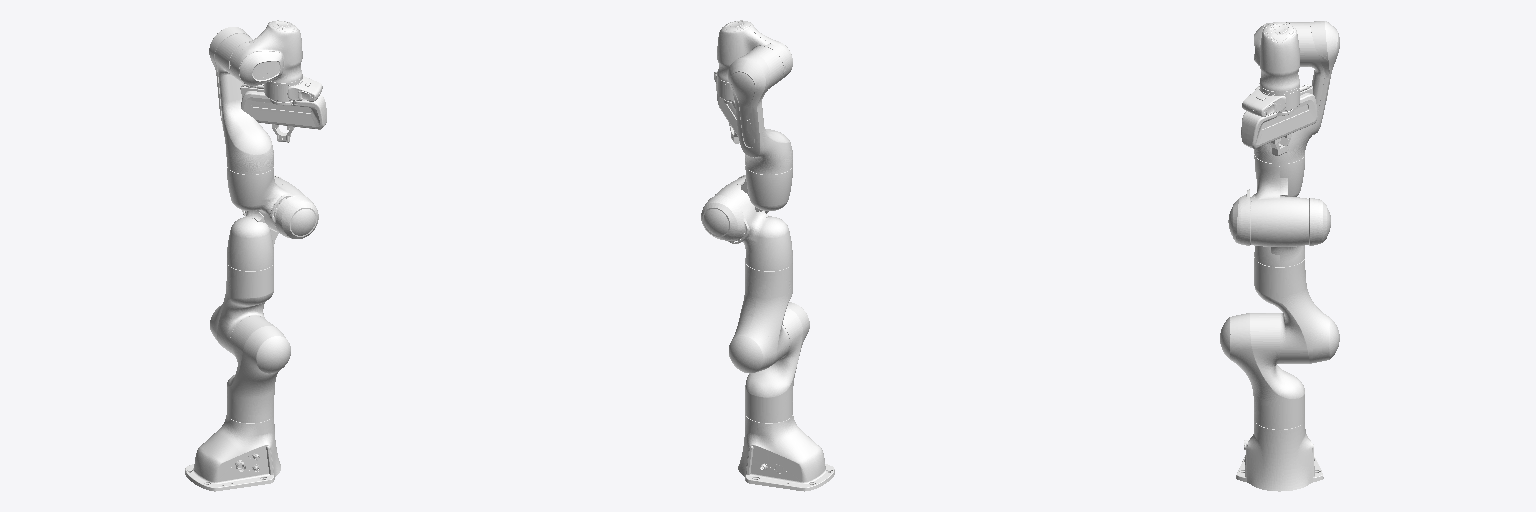
robot.urdf — panda:
<?xml version="1.0" ?>
<!-- =================================================================================== -->
<!-- |    This document was autogenerated by xacro from panda_arm_hand.urdf.xacro      | -->
<!-- |    EDITING THIS FILE BY HAND IS NOT RECOMMENDED                                 | -->
<!-- =================================================================================== -->
<robot name="panda" xmlns:xacro="http://www.ros.org/wiki/xacro">

    <material name="white">
        <color rgba="1.0 1.0 1.0 1.0"/>
      </material>

    <link name="base_link"/>

    <joint name="base_joint" type="revolute">
        <safety_controller k_position="100.0" k_velocity="40.0" soft_lower_limit="-2.8973" soft_upper_limit="2.8973"/>
        <origin rpy="0 0 0" xyz="0 0 0"/>
        <parent link="base_link"/>
        <child link="panda_support_link"/>
        <axis xyz="0 0 1"/>
        <limit effort="87" lower="0.0000000" upper="0.000001" velocity="0.01"/>
    </joint>

    <link name="panda_support_link"/>

    <joint name="no_joint" type="fixed">
        <origin rpy="0 0 0" xyz="0 0 0"/>
        <parent link="panda_support_link"/>
        <child link="panda_link0"/>
    </joint>

    <link name="panda_link0">
        <inertial>
            <origin rpy="0 0 0" xyz="0 0 0.05"/>
            <mass value="2.9"/>
            <inertia ixx="0.1" ixy="0" ixz="0" iyy="0.1" iyz="0" izz="0.1"/>
        </inertial>
        <visual>
            <geometry>
                <mesh filename="package://robots/franka_panda/meshes/visual/link0.dae"/>
            </geometry>
            <material name="white"/>
        </visual>
        <collision>
            <geometry>
                <mesh filename="package://robots/franka_panda/meshes/collision/link0.stl"/>
            </geometry>
            <material name="white"/>
        </collision>
    </link>
    <link name="panda_link1">
        <inertial>
            <origin rpy="0 0 0" xyz="0 -0.04 -0.05"/>
            <mass value="2.7"/>
            <inertia ixx="0.1" ixy="0" ixz="0" iyy="0.1" iyz="0" izz="0.1"/>
        </inertial>
        <visual>
            <geometry>
                <mesh filename="package://robots/franka_panda/meshes/visual/link1.dae"/>
            </geometry>
            <material name="white"/>
        </visual>
        <collision>
            <geometry>
                <mesh filename="package://robots/franka_panda/meshes/collision/link1.stl"/>
            </geometry>
            <material name="white"/>
        </collision>
    </link>
    <joint name="panda_joint1" type="revolute">
        <safety_controller k_position="100.0" k_velocity="40.0" soft_lower_limit="-2.8973" soft_upper_limit="2.8973"/>
        <origin rpy="0 0 0" xyz="0 0 0.333"/>
        <parent link="panda_link0"/>
        <child link="panda_link1"/>
        <axis xyz="0 0 1"/>
        <limit effort="87" lower="-2.9671" upper="2.9671" velocity="2.1750"/>
    </joint>
    <link name="panda_link2">
        <inertial>
            <origin rpy="0 0 0" xyz="0 -0.04 0.06"/>
            <mass value="2.73"/>
            <inertia ixx="0.1" ixy="0" ixz="0" iyy="0.1" iyz="0" izz="0.1"/>
        </inertial>
        <visual>
            <geometry>
                <mesh filename="package://robots/franka_panda/meshes/visual/link2.dae"/>
            </geometry>
            <material name="white"/>
        </visual>
        <collision>
            <geometry>
                <mesh filename="package://robots/franka_panda/meshes/collision/link2.stl"/>
            </geometry>
            <material name="white"/>
        </collision>
    </link>
    <joint name="panda_joint2" type="revolute">
        <safety_controller k_position="100.0" k_velocity="40.0" soft_lower_limit="-1.7628" soft_upper_limit="1.7628"/>
        <origin rpy="-1.57079632679 0 0" xyz="0 0 0"/>
        <parent link="panda_link1"/>
        <child link="panda_link2"/>
        <axis xyz="0 0 1"/>
        <limit effort="87" lower="-1.8326" upper="1.8326" velocity="2.1750"/>
    </joint>
    <link name="panda_link3">
        <inertial>
            <origin rpy="0 0 0" xyz="0.01 0.01 -0.05"/>
            <mass value="2.04"/>
            <inertia ixx="0.1" ixy="0" ixz="0" iyy="0.1" iyz="0" izz="0.1"/>
        </inertial>
        <visual>
            <geometry>
                <mesh filename="package://robots/franka_panda/meshes/visual/link3.dae"/>
            </geometry>
            <material name="white"/>
        </visual>
        <collision>
            <geometry>
                <mesh filename="package://robots/franka_panda/meshes/collision/link3.stl"/>
            </geometry>
            <material name="white"/>
        </collision>
    </link>
    <joint name="panda_joint3" type="revolute">
        <safety_controller k_position="100.0" k_velocity="40.0" soft_lower_limit="-2.8973" soft_upper_limit="2.8973"/>
        <origin rpy="1.57079632679 0 0" xyz="0 -0.316 0"/>
        <parent link="panda_link2"/>
        <child link="panda_link3"/>
        <axis xyz="0 0 1"/>
        <limit effort="87" lower="-2.9671" upper="2.9671" velocity="2.1750"/>
    </joint>
    <link name="panda_link4">
        <inertial>
            <origin rpy="0 0 0" xyz="-0.03 0.03 0.02"/>
            <mass value="2.08"/>
            <inertia ixx="0.1" ixy="0" ixz="0" iyy="0.1" iyz="0" izz="0.1"/>
        </inertial>
        <visual>
            <geometry>
                <mesh filename="package://robots/franka_panda/meshes/visual/link4.dae"/>
            </geometry>
            <material name="white"/>
        </visual>
        <collision>
            <geometry>
                <mesh filename="package://robots/franka_panda/meshes/collision/link4.stl"/>
            </geometry>
            <material name="white"/>
        </collision>
    </link>
    <joint name="panda_joint4" type="revolute">
        <safety_controller k_position="100.0" k_velocity="40.0" soft_lower_limit="-3.0718" soft_upper_limit="-0.0698"/>
        <origin rpy="1.57079632679 0 0" xyz="0.0825 0 0"/>
        <parent link="panda_link3"/>
        <child link="panda_link4"/>
        <axis xyz="0 0 1"/>
        <limit effort="87" lower="-3.1416" upper="0.0" velocity="2.1750"/>
    </joint>
    <link name="panda_link5">
        <inertial>
            <origin rpy="0 0 0" xyz="0 0.04 -0.12"/>
            <mass value="3"/>
            <inertia ixx="0.1" ixy="0" ixz="0" iyy="0.1" iyz="0" izz="0.1"/>
        </inertial>
        <visual>
            <geometry>
                <mesh filename="package://robots/franka_panda/meshes/visual/link5.dae"/>
            </geometry>
            <material name="white"/>
        </visual>
        <collision>
            <geometry>
                <mesh filename="package://robots/franka_panda/meshes/collision/link5.stl"/>
            </geometry>
            <material name="white"/>
        </collision>
    </link>
    <joint name="panda_joint5" type="revolute">
        <safety_controller k_position="100.0" k_velocity="40.0" soft_lower_limit="-2.8973" soft_upper_limit="2.8973"/>
        <origin rpy="-1.57079632679 0 0" xyz="-0.0825 0.384 0"/>
        <parent link="panda_link4"/>
        <child link="panda_link5"/>
        <axis xyz="0 0 1"/>
        <limit effort="12" lower="-2.9671" upper="2.9671" velocity="2.6100"/>
    </joint>
    <link name="panda_link6">
        <inertial>
            <origin rpy="0 0 0" xyz="0.04 0 0"/>
            <mass value="1.3"/>
            <inertia ixx="0.1" ixy="0" ixz="0" iyy="0.1" iyz="0" izz="0.1"/>
        </inertial>
        <visual>
            <geometry>
                <mesh filename="package://robots/franka_panda/meshes/visual/link6.dae"/>
            </geometry>
            <material name="white"/>
        </visual>
        <collision>
            <geometry>
                <mesh filename="package://robots/franka_panda/meshes/collision/link6.stl"/>
            </geometry>
            <material name="white"/>
        </collision>
    </link>
    <joint name="panda_joint6" type="revolute">
        <safety_controller k_position="100.0" k_velocity="40.0" soft_lower_limit="-0.0175" soft_upper_limit="3.7525"/>
        <origin rpy="1.57079632679 0 0" xyz="0 0 0"/>
        <parent link="panda_link5"/>
        <child link="panda_link6"/>
        <axis xyz="0 0 1"/>
        <limit effort="12" lower="-0.0873" upper="3.8223" velocity="2.6100"/>
    </joint>
    <link name="panda_link7">
        <inertial>
            <origin rpy="0 0 0" xyz="0 0 0.08"/>
            <mass value="0.2"/>
            <inertia ixx="0.1" ixy="0" ixz="0" iyy="0.1" iyz="0" izz="0.1"/>
        </inertial>
        <visual>
            <geometry>
                <mesh filename="package://robots/franka_panda/meshes/visual/link7.dae"/>
            </geometry>
            <material name="white"/>
        </visual>
        <collision>
            <geometry>
                <mesh filename="package://robots/franka_panda/meshes/collision/link7.stl"/>
            </geometry>
            <material name="white"/>
        </collision>
    </link>
    <joint name="panda_joint7" type="revolute">
        <safety_controller k_position="100.0" k_velocity="40.0" soft_lower_limit="-2.8973" soft_upper_limit="2.8973"/>
        <origin rpy="1.57079632679 0 0" xyz="0.088 0 0"/>
        <parent link="panda_link6"/>
        <child link="panda_link7"/>
        <axis xyz="0 0 1"/>
        <limit effort="12" lower="-2.9671" upper="2.9671" velocity="2.6100"/>
    </joint>
    <link name="panda_link8">
        <inertial>
            <origin rpy="0 0 0" xyz="0 0 0"/>
            <mass value="0.1"/>
            <inertia ixx="0.1" ixy="0" ixz="0" iyy="0.1" iyz="0" izz="0.1"/>
        </inertial>
    </link>
    <joint name="panda_joint8" type="fixed">
        <origin rpy="0 0 0" xyz="0 0 0.107"/>
        <parent link="panda_link7"/>
        <child link="panda_link8"/>
        <axis xyz="0 0 0"/>
    </joint>
    <joint name="panda_hand_joint" type="fixed">
        <parent link="panda_link8"/>
        <child link="panda_hand"/>
        <origin rpy="0 0 -0.785398163397" xyz="0 0 0"/>
    </joint>
    <link name="panda_hand">
        <inertial>
            <origin rpy="0 0 0" xyz="0 0 0.04"/>
            <mass value="0.81"/>
            <inertia ixx="0.1" ixy="0" ixz="0" iyy="0.1" iyz="0" izz="0.1"/>
        </inertial>
        <visual>
            <geometry>
                <mesh filename="package://robots/franka_panda/meshes/visual/hand.dae"/>
            </geometry>
            <material name="white"/>
        </visual>
        <collision>
            <geometry>
                <mesh filename="package://robots/franka_panda/meshes/collision/hand.stl"/>
            </geometry>
        </collision>
        <material name="white"/>
    </link>
    <link name="panda_leftfinger">
        <inertial>
            <origin rpy="0 0 0" xyz="0 0.01 0.02"/>
            <mass value="0.1"/>
            <inertia ixx="0.1" ixy="0" ixz="0" iyy="0.1" iyz="0" izz="0.1"/>
        </inertial>
        <visual>
            <geometry>
                <mesh filename="package://robots/franka_panda/meshes/visual/finger.dae"/>
            </geometry>
            <material name="white"/>
        </visual>
        <collision>
            <geometry>
                <mesh filename="package://robots/franka_panda/meshes/collision/finger.stl"/>
            </geometry>
        </collision>
        <material name="white"/>
    </link>
    <link name="panda_rightfinger">
        <inertial>
            <origin rpy="0 0 0" xyz="0 -0.01 0.02"/>
            <mass value="0.1"/>
            <inertia ixx="0.1" ixy="0" ixz="0" iyy="0.1" iyz="0" izz="0.1"/>
        </inertial>
        <visual>
            <origin rpy="0 0 3.14159265359" xyz="0 0 0"/>
            <geometry>
                <mesh filename="package://robots/franka_panda/meshes/visual/finger.dae"/>
            </geometry>
            <material name="white"/>
        </visual>
        <collision>
            <origin rpy="0 0 3.14159265359" xyz="0 0 0"/>
            <geometry>
                <mesh filename="package://robots/franka_panda/meshes/collision/finger.stl"/>
            </geometry>
        </collision>
        <material name="white"/>
    </link>
    <joint name="panda_finger_joint1" type="prismatic">
        <parent link="panda_hand"/>
        <child link="panda_leftfinger"/>
        <origin rpy="0 0 0" xyz="0 0 0.0584"/>
        <axis xyz="0 1 0"/>
        <limit effort="20" lower="0.0" upper="0.04" velocity="0.2"/>
    </joint>
    <joint name="panda_finger_joint2" type="prismatic">
        <parent link="panda_hand"/>
        <child link="panda_rightfinger"/>
        <origin rpy="0 0 0" xyz="0 0 0.0584"/>
        <axis xyz="0 -1 0"/>
        <limit effort="20" lower="0.0" upper="0.04" velocity="0.2"/>
        <mimic joint="panda_finger_joint1"/>
    </joint>
</robot>

--- What the picture shows (computed from the rendered views, not written in the file) ---
3 views of the same robot in one strip: view 1: azimuth 30°, elevation 25°; view 2: azimuth 150°, elevation 25°; view 3: azimuth 270°, elevation 25° (orthographic).
Robot: panda — 14 links, 13 joints (8 revolute, 2 prismatic, 3 fixed); root link base_link; default pose: every joint at zero.
Links seen in each view (by area): view 1: panda_link0, panda_link1, panda_link5, panda_link4, panda_link6, panda_link2, panda_link3, panda_hand, panda_link7; view 2: panda_link0, panda_link5, panda_link2, panda_link3, panda_link1, panda_link6, panda_link4; view 3: panda_link1, panda_link2, panda_link0, panda_link4, panda_link5, panda_link3, panda_link6, panda_hand, panda_link7.
Link boxes in pixels (x1,y1,x2,y2): panda_link0: (185, 415, 280, 491); panda_link1: (227, 316, 290, 422); panda_link5: (209, 27, 273, 174); panda_link4: (227, 167, 318, 238); panda_link6: (230, 20, 302, 85); panda_link2: (210, 264, 273, 355); panda_link3: (227, 175, 291, 270); panda_hand: (240, 84, 326, 129); panda_link7: (262, 76, 322, 102); panda_link0: (738, 414, 834, 491); panda_link5: (728, 46, 792, 174); panda_link2: (729, 262, 792, 373); panda_link3: (701, 184, 792, 270); panda_link1: (745, 302, 809, 422); panda_link6: (717, 20, 792, 81); panda_link4: (726, 165, 792, 213); panda_link1: (1220, 313, 1304, 429); panda_link2: (1254, 257, 1339, 363); panda_link0: (1236, 420, 1323, 491); panda_link4: (1228, 154, 1304, 246); panda_link5: (1254, 21, 1339, 163); panda_link3: (1254, 196, 1330, 266); panda_link6: (1254, 22, 1299, 91); panda_hand: (1241, 84, 1317, 148); panda_link7: (1242, 83, 1299, 116).
Bounding box of the posed robot: 0.3253 × 0.2593 × 1.11 m (x, y, z).
11 mesh visuals loaded from 10 distinct referenced files (10 Collada DAE).